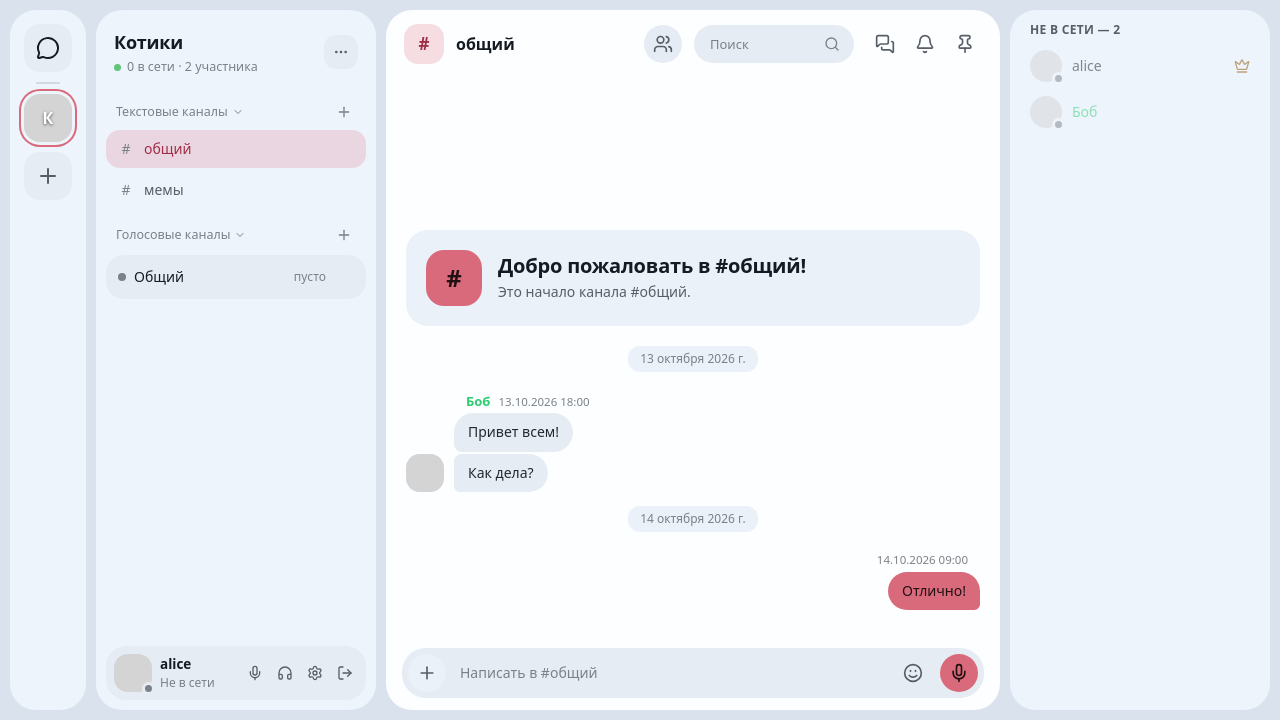
Test: message actions › react from the quick row at the top
This screenshot has width=1280, height=720.
Expected: the text "Как дела?" is shown, [468,463,534,483]
Right-click the list item "Как дела?": (477, 473) [406,454,548,492]
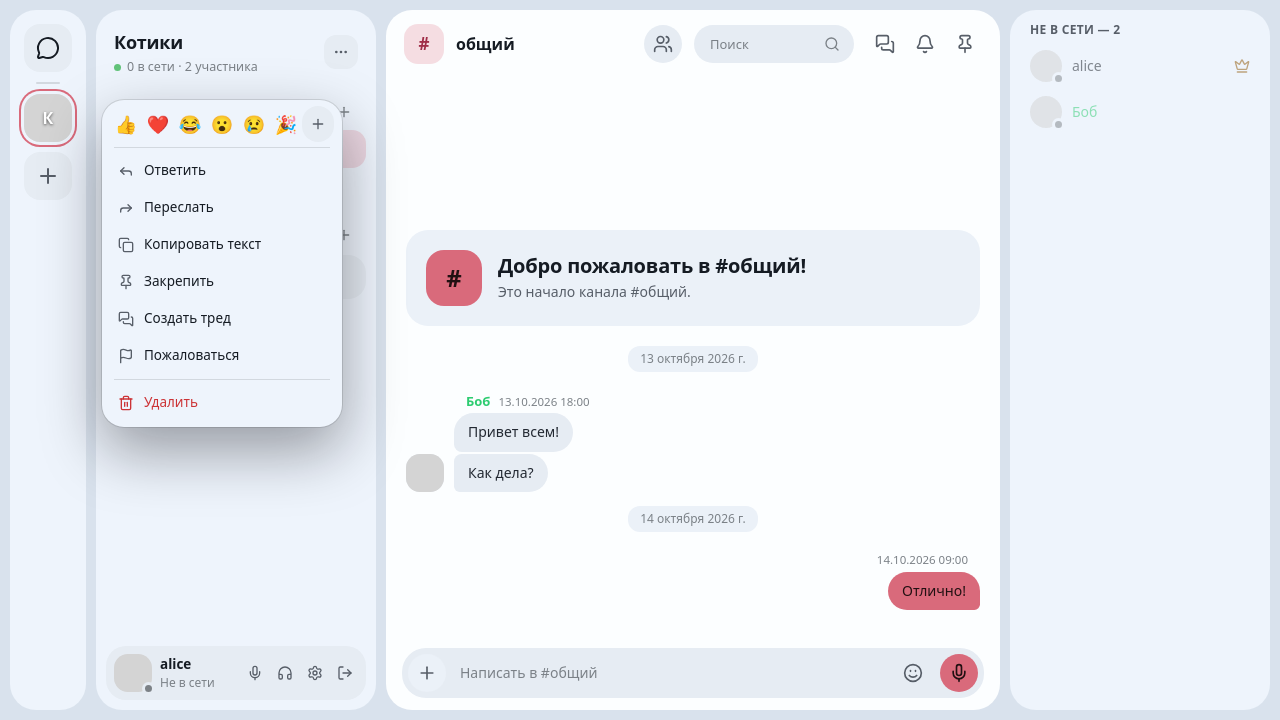
Click the menu item named "Отреагировать: 👍": (126, 124) [115,112,137,136]
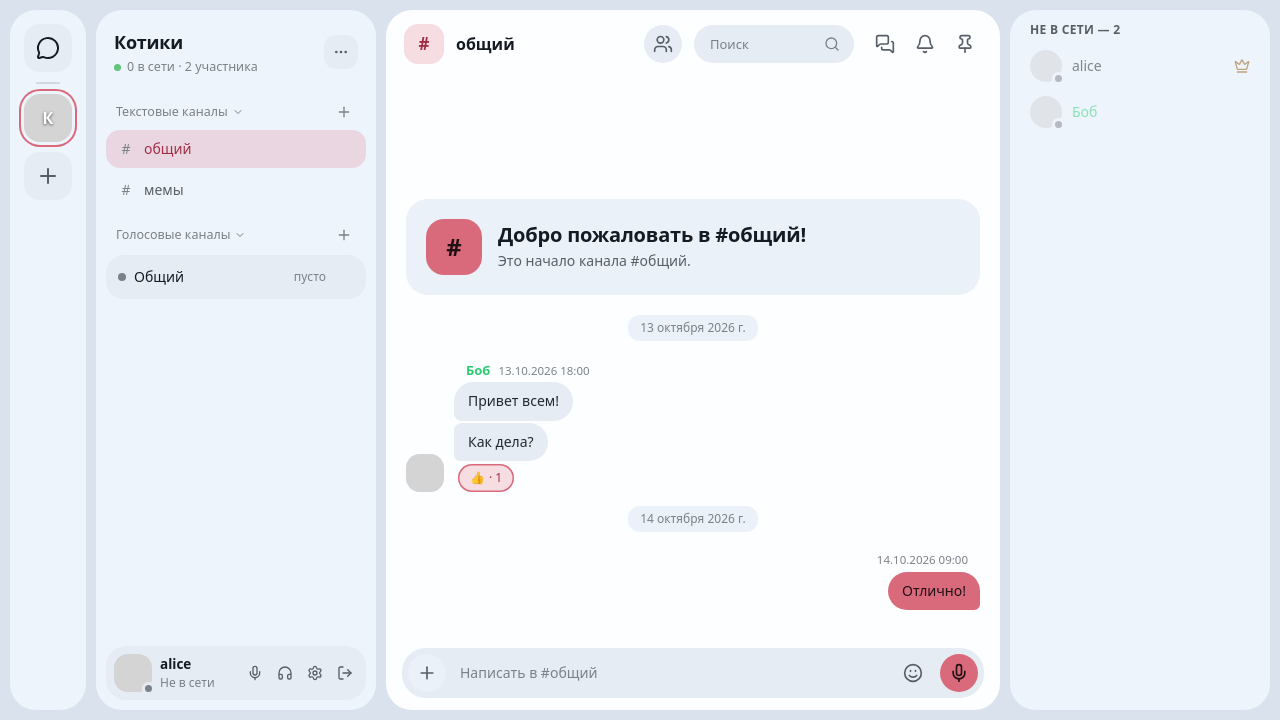
Expected: the menu is gone
